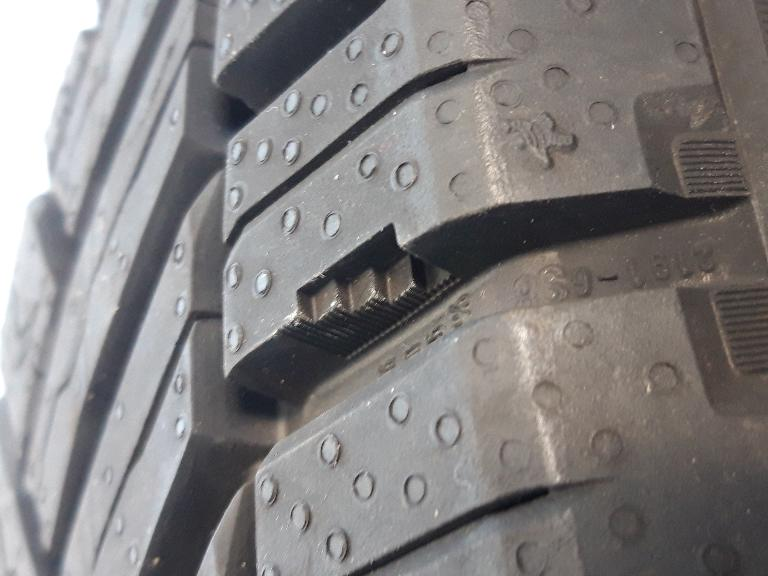temoin:100: (272, 217, 469, 376)
